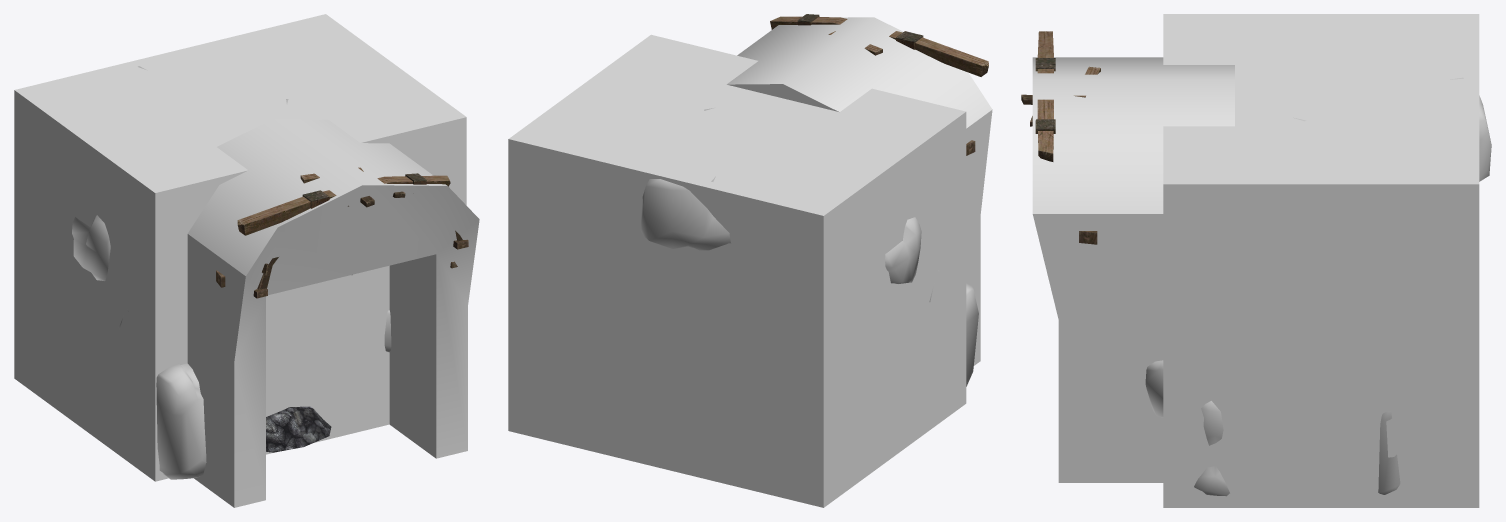
File: Scene_Build_XuanWuShan_KuangShanKou_1.FBX
3 renders of one model, left to right at view 1: azimuth 30°, elevation 25°; view 2: azimuth 150°, elevation 25°; view 3: azimuth 270°, elevation 25°, orthographic. The views are drawn at different scales.
Parts seen in each view (by area): view 1: Scene_Build_XuanWuShan_KuangShanKou_1_Xzm, Scene_Build_XuanWuShan_KuangShanKou_1b, Scene_Build_XuanWuShan_KuangShanKou_1a, Scene_Build_XuanWuShan_KuangShanKou_1c; view 2: Scene_Build_XuanWuShan_KuangShanKou_1_Xzm, Scene_Build_XuanWuShan_KuangShanKou_1b, Scene_Build_XuanWuShan_KuangShanKou_1a; view 3: Scene_Build_XuanWuShan_KuangShanKou_1_Xzm, Scene_Build_XuanWuShan_KuangShanKou_1b, Scene_Build_XuanWuShan_KuangShanKou_1a.
Part boxes in pixels (x1=…): Scene_Build_XuanWuShan_KuangShanKou_1_Xzm: x1=14, y1=14, x2=479, y2=507; Scene_Build_XuanWuShan_KuangShanKou_1b: x1=72, y1=66, x2=391, y2=479; Scene_Build_XuanWuShan_KuangShanKou_1a: x1=216, y1=167, x2=468, y2=298; Scene_Build_XuanWuShan_KuangShanKou_1c: x1=266, y1=406, x2=331, y2=452; Scene_Build_XuanWuShan_KuangShanKou_1_Xzm: x1=508, y1=17, x2=992, y2=507; Scene_Build_XuanWuShan_KuangShanKou_1b: x1=640, y1=108, x2=978, y2=386; Scene_Build_XuanWuShan_KuangShanKou_1a: x1=770, y1=14, x2=988, y2=155; Scene_Build_XuanWuShan_KuangShanKou_1_Xzm: x1=1032, y1=14, x2=1479, y2=507; Scene_Build_XuanWuShan_KuangShanKou_1b: x1=1145, y1=77, x2=1491, y2=496; Scene_Build_XuanWuShan_KuangShanKou_1a: x1=1021, y1=31, x2=1100, y2=244.
Bounding box in the file's own units: 958 × 878 × 1071.
